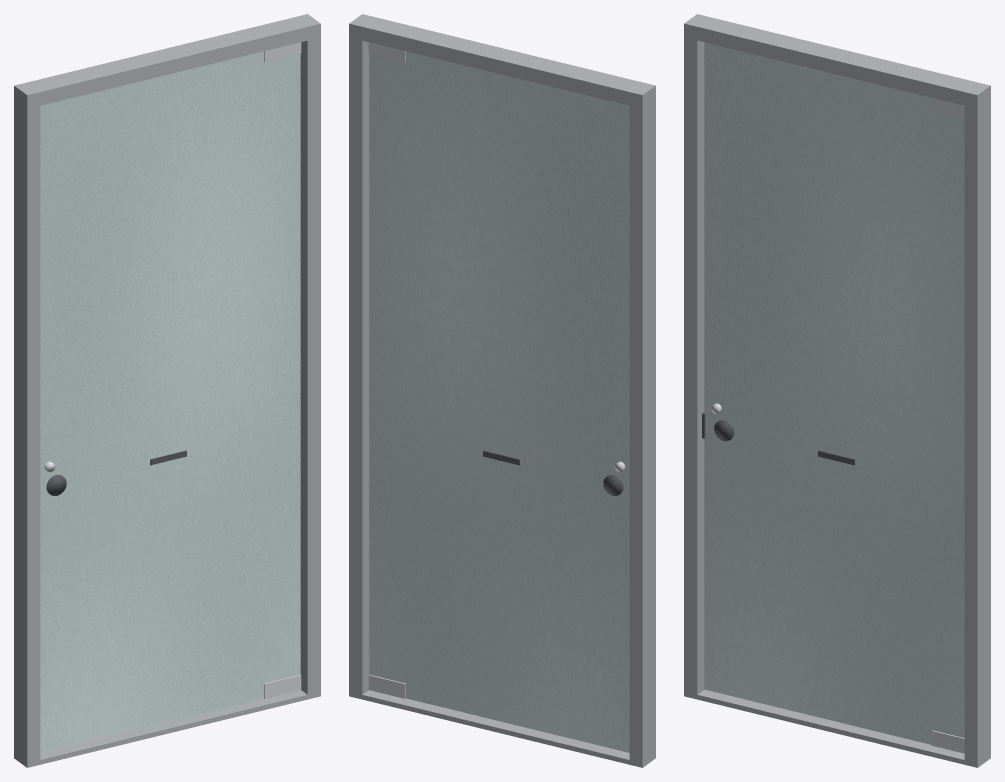
The model's file is puerta_blindex_esmerilada.glb.
The picture shows the model from 3 angles, left to right: view 1: azimuth 30°, elevation 25°; view 2: azimuth 150°, elevation 25°; view 3: azimuth 330°, elevation 25°; orthographic projection.
Parts seen in each view (by area): view 1: Vidrio_Blindex_Esmerilado, Marco_Y_Herrajes; view 2: Vidrio_Blindex_Esmerilado, Marco_Y_Herrajes; view 3: Vidrio_Blindex_Esmerilado, Marco_Y_Herrajes.
Boxes of the visible parts, x1,y1,x2,y2 form: Vidrio_Blindex_Esmerilado: [40, 51, 300, 752]; Marco_Y_Herrajes: [14, 14, 320, 767]; Vidrio_Blindex_Esmerilado: [369, 51, 629, 752]; Marco_Y_Herrajes: [349, 14, 655, 767]; Vidrio_Blindex_Esmerilado: [704, 42, 964, 744]; Marco_Y_Herrajes: [684, 14, 990, 767].
Bounding box in the file's own units: 1.16 × 2.54 × 0.09.
Materials: 4 (1 with a texture image).
